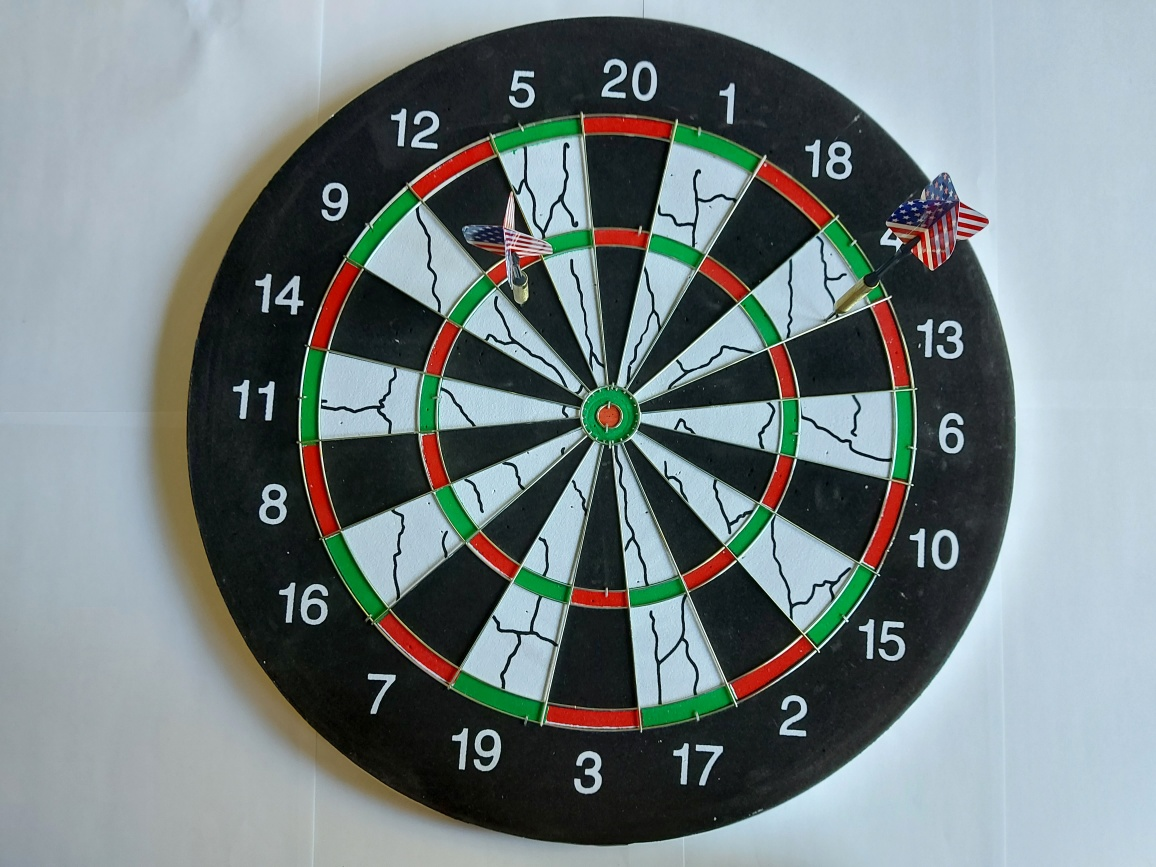Dart: (820, 166, 994, 331), (453, 177, 560, 321)
